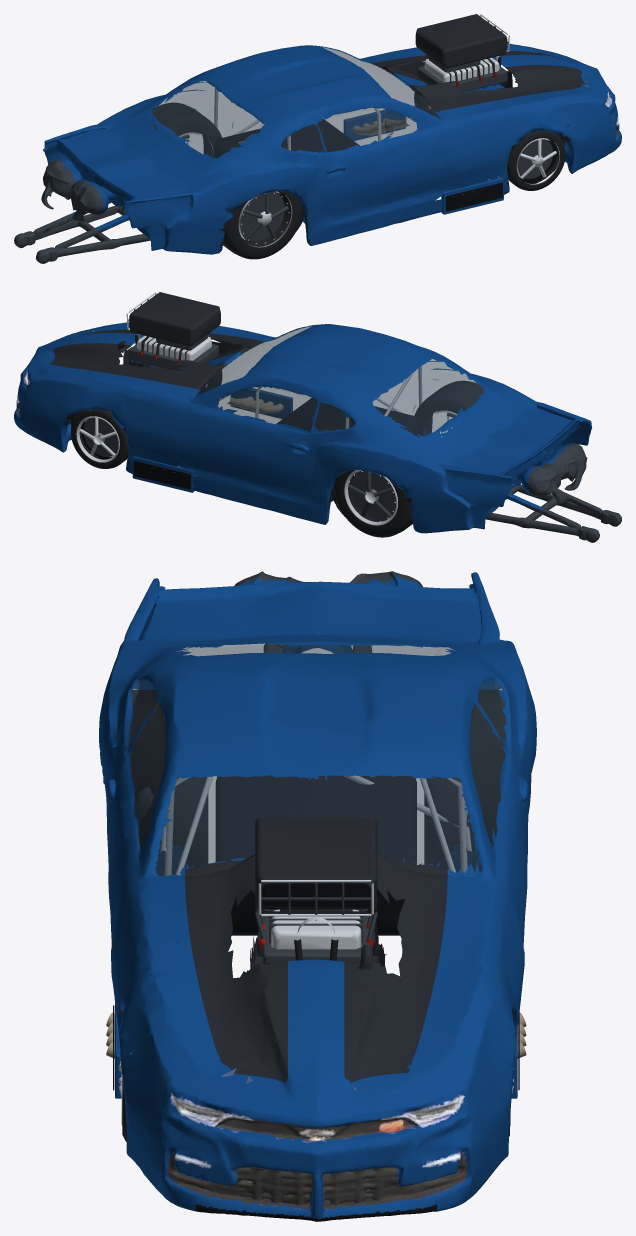
File: camaro.glb
The picture shows the model from 3 angles, top to bottom: view 1: azimuth 30°, elevation 25°; view 2: azimuth 150°, elevation 25°; view 3: azimuth 270°, elevation 25°; orthographic projection. The views are drawn at different scales.
Parts seen in each view (by area): view 1: body-paint, cabin-glazing, rear-hardware, hood-carbon, edh-wheel-rl, intake-hat, edh-wheel-fl, cabin-interior, blower-case, edh-wheel-rr, exhaust-surround, retained-wheel-wells (+3 smaller); view 2: body-paint, cabin-glazing, hood-carbon, rear-hardware, edh-wheel-rr, intake-hat, edh-wheel-fr, cabin-interior, blower-case, edh-wheel-rl, exhaust-surround, exhaust-recess (+3 smaller); view 3: body-paint, cabin-glazing, hood-carbon, cabin-interior, fascia-details, intake-hat, edh-wheel-rl, edh-wheel-rr, blower-case, cabin-rollcage, intake-throat, undertray (+2 smaller).
Part boxes in pixels (x1,y1,x2,y2): body-paint: (43, 43, 621, 254); cabin-glazing: (149, 47, 439, 158); rear-hardware: (14, 159, 150, 263); hood-carbon: (371, 51, 584, 111); edh-wheel-rl: (223, 191, 302, 259); intake-hat: (415, 14, 507, 68); edh-wheel-fl: (507, 130, 565, 190); cabin-interior: (213, 119, 359, 158); blower-case: (417, 57, 507, 92); edh-wheel-rr: (149, 102, 221, 157); exhaust-surround: (343, 110, 503, 214); retained-wheel-wells: (203, 107, 570, 247); body-paint: (14, 322, 592, 533); cabin-glazing: (198, 326, 484, 436); hood-carbon: (50, 329, 264, 389); rear-hardware: (485, 443, 621, 542); edh-wheel-rr: (334, 470, 412, 537); intake-hat: (129, 292, 220, 346); edh-wheel-fr: (71, 409, 128, 468); cabin-interior: (276, 398, 423, 436); blower-case: (129, 335, 218, 372); edh-wheel-rl: (414, 380, 484, 429); exhaust-surround: (132, 388, 292, 492); exhaust-recess: (133, 460, 190, 489); body-paint: (99, 572, 536, 1219); cabin-glazing: (128, 643, 506, 875); hood-carbon: (185, 851, 447, 1082); cabin-interior: (215, 775, 416, 935); fascia-details: (166, 1068, 468, 1210); intake-hat: (255, 817, 377, 913); edh-wheel-rl: (106, 690, 208, 869); edh-wheel-rr: (424, 690, 506, 870); blower-case: (262, 909, 369, 963); cabin-rollcage: (160, 775, 471, 875); intake-throat: (262, 883, 370, 909); undertray: (194, 954, 437, 1221).
Bounding box in the file's own units: 1 × 0.2171 × 0.3265.
11 materials, 1 textured.
